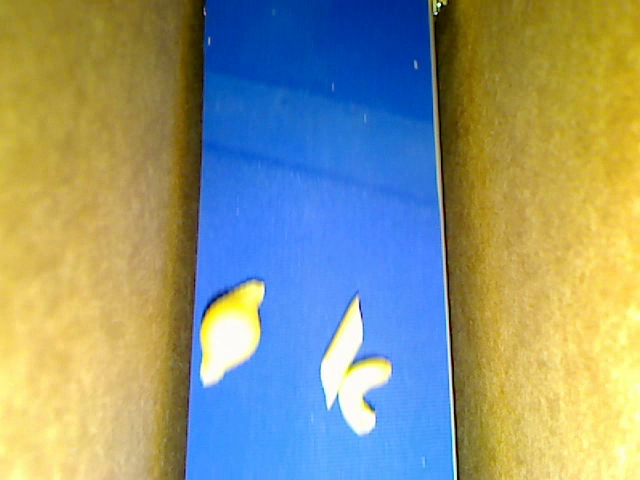elbow: (337, 355, 393, 434)
penne: (319, 292, 364, 411)
shell: (198, 278, 265, 387)
